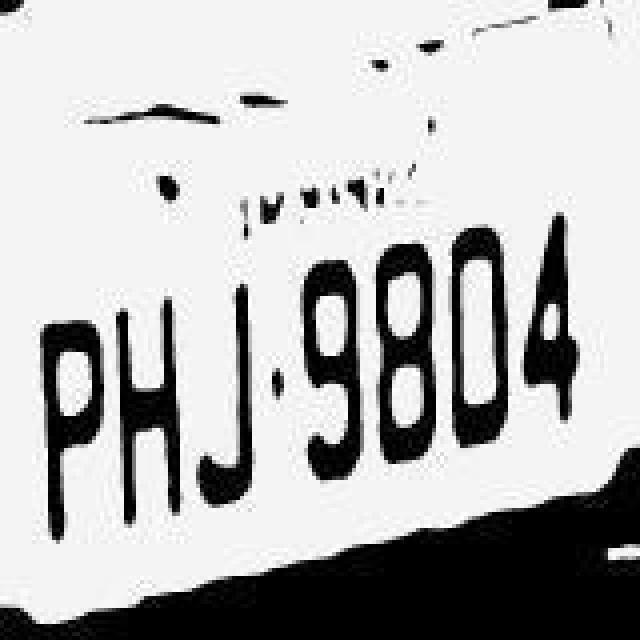4: (518, 208, 594, 472)
8: (368, 234, 440, 502)
9: (292, 248, 364, 528)
H: (114, 272, 190, 544)
J: (192, 264, 264, 528)
O: (444, 214, 516, 490)
P: (32, 290, 112, 558)
